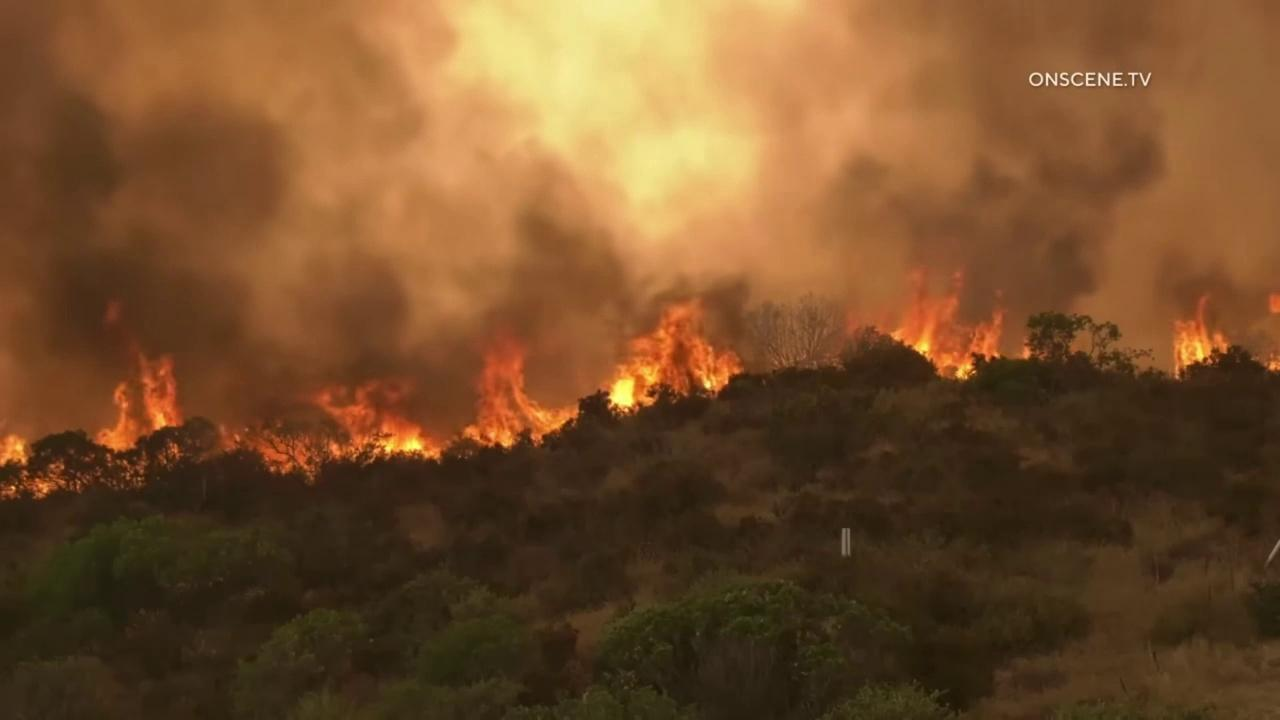fire: (216, 380, 443, 488), (606, 296, 744, 420), (76, 343, 185, 495), (460, 323, 580, 454), (888, 261, 1004, 384), (1173, 295, 1232, 384), (0, 432, 68, 502), (1264, 291, 1280, 314), (1021, 336, 1034, 360), (1266, 353, 1280, 373)
smoke: (0, 0, 1280, 446)
